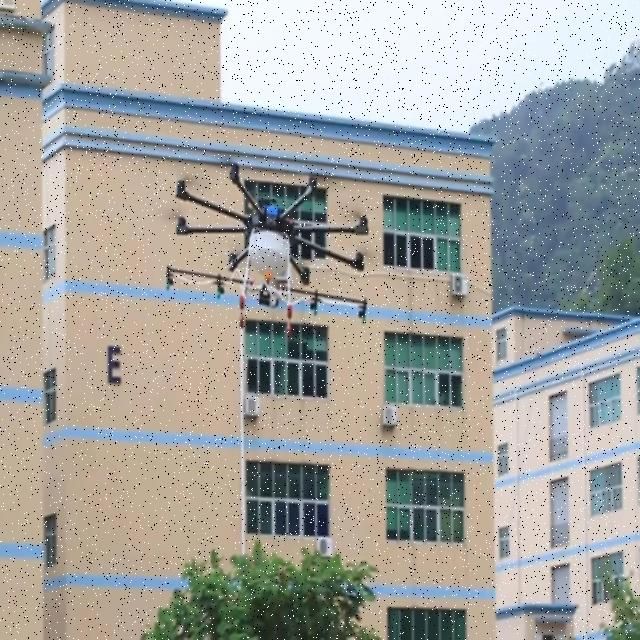UAV: (165, 158, 369, 342)
